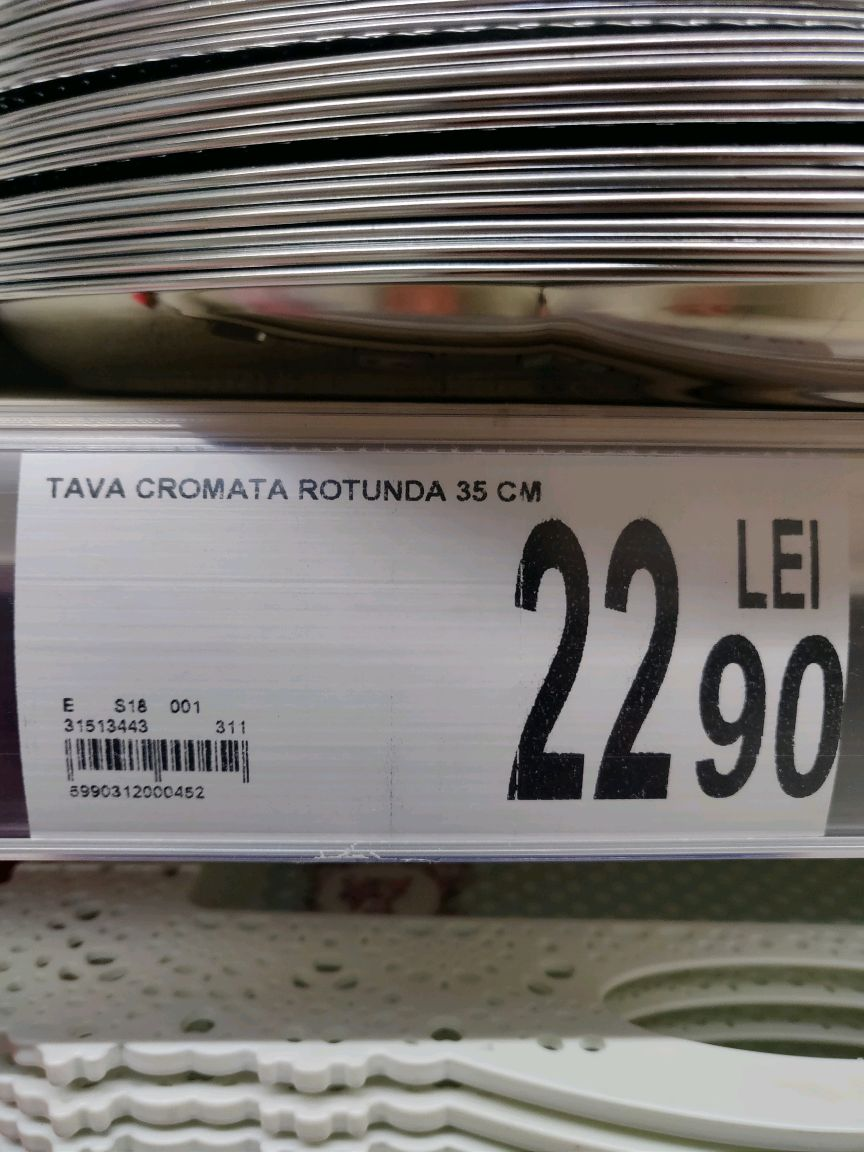price_bani: (690, 624, 853, 809)
price_lei: (493, 516, 688, 809)
price_tag: (5, 434, 862, 874)
product_id: (63, 780, 216, 809)
product_name: (36, 464, 552, 510)
